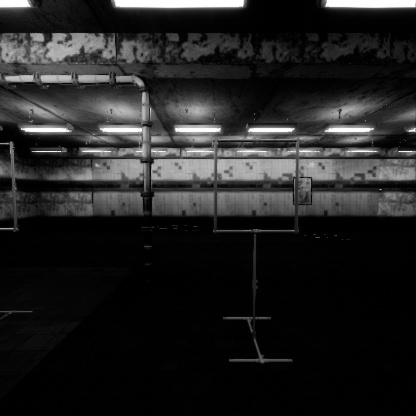gate: (214, 181, 307, 277)
